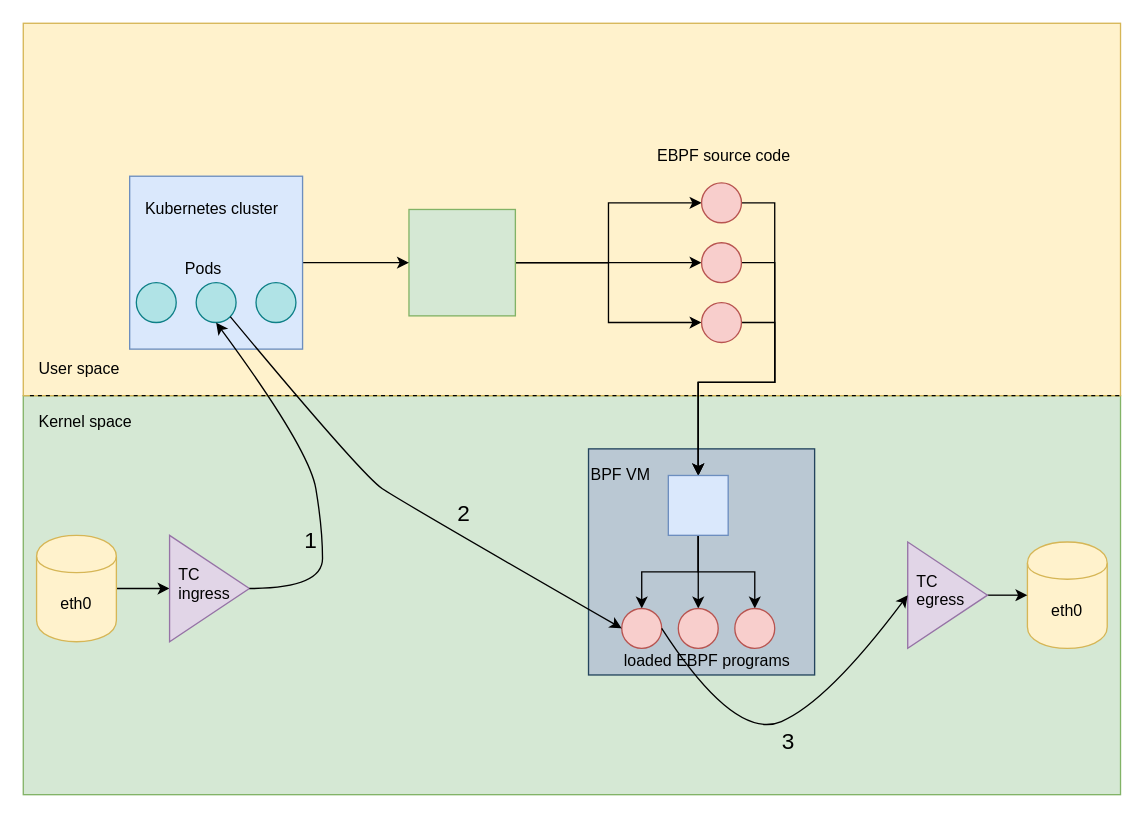
The diagram is 1145 pixels wide and 818 high, and some of its shapes have lost their labels. The shapes that lost their labels are listed below. From the top down, each one's centre as x and y in pixels, then its label:
the point at 461,262: Application
the point at 697,504: verifier + JIT
